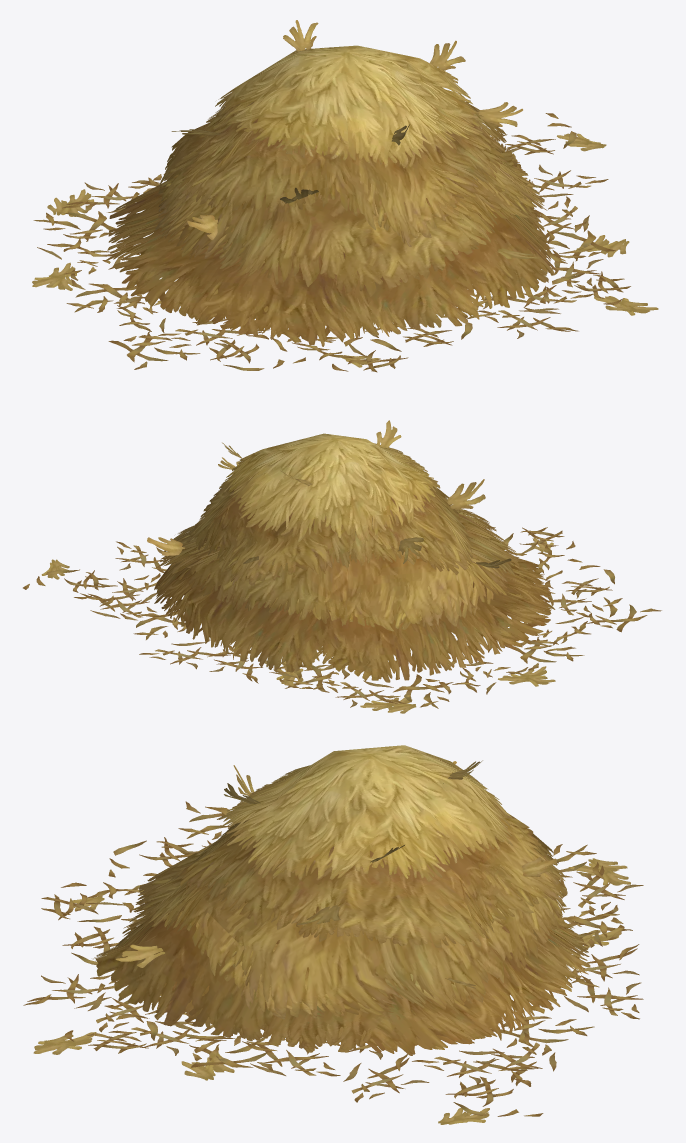
3 views of the same model, one above another, from view 1: azimuth 30°, elevation 25°; view 2: azimuth 150°, elevation 25°; view 3: azimuth 270°, elevation 25° (orthographic). The views are drawn at different scales.
Bounding box in the file's own units: 7.94 × 2.39 × 6.73.
Materials: 2 (2 with a texture image).
